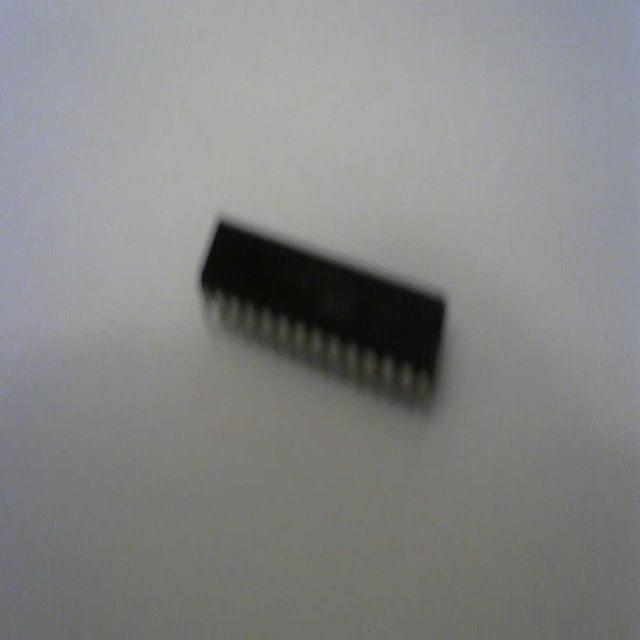atmega: (197, 211, 449, 413)
